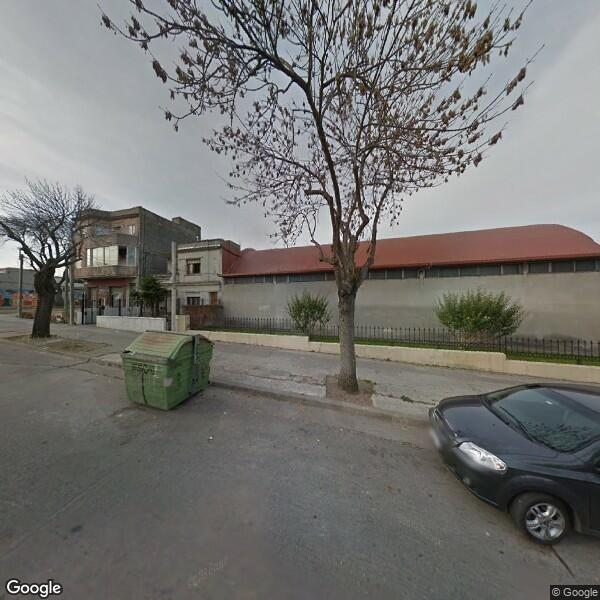Trash: (125, 329, 217, 411)
